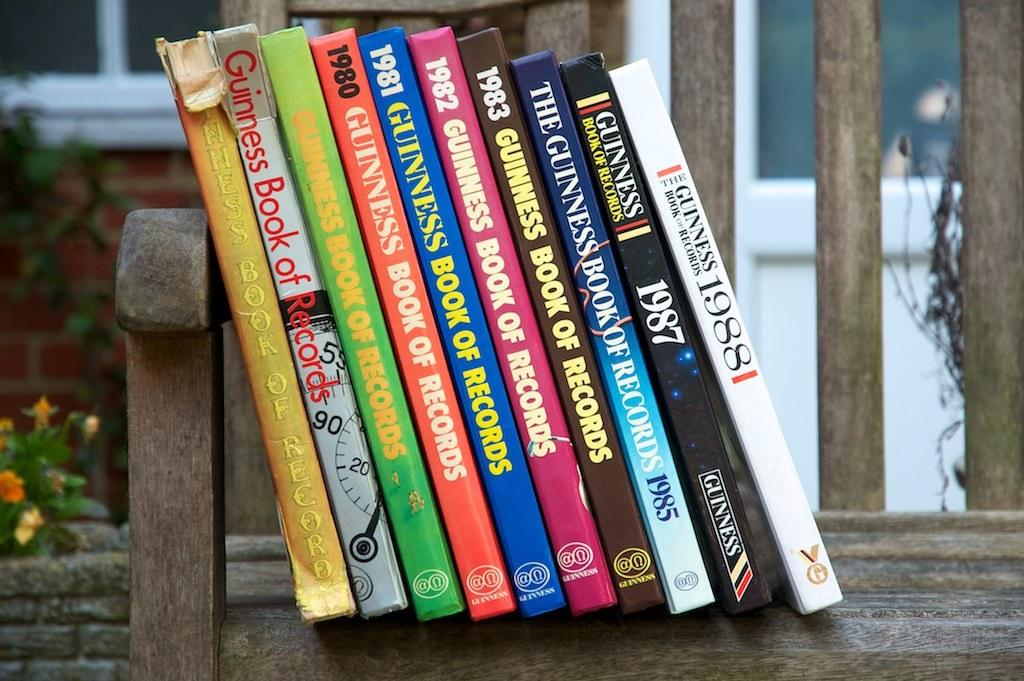book: (610, 62, 840, 617), (404, 15, 618, 611), (353, 21, 565, 622), (256, 26, 466, 623), (555, 51, 775, 617), (454, 23, 663, 615), (509, 50, 722, 617), (216, 26, 416, 618), (315, 29, 514, 622)
